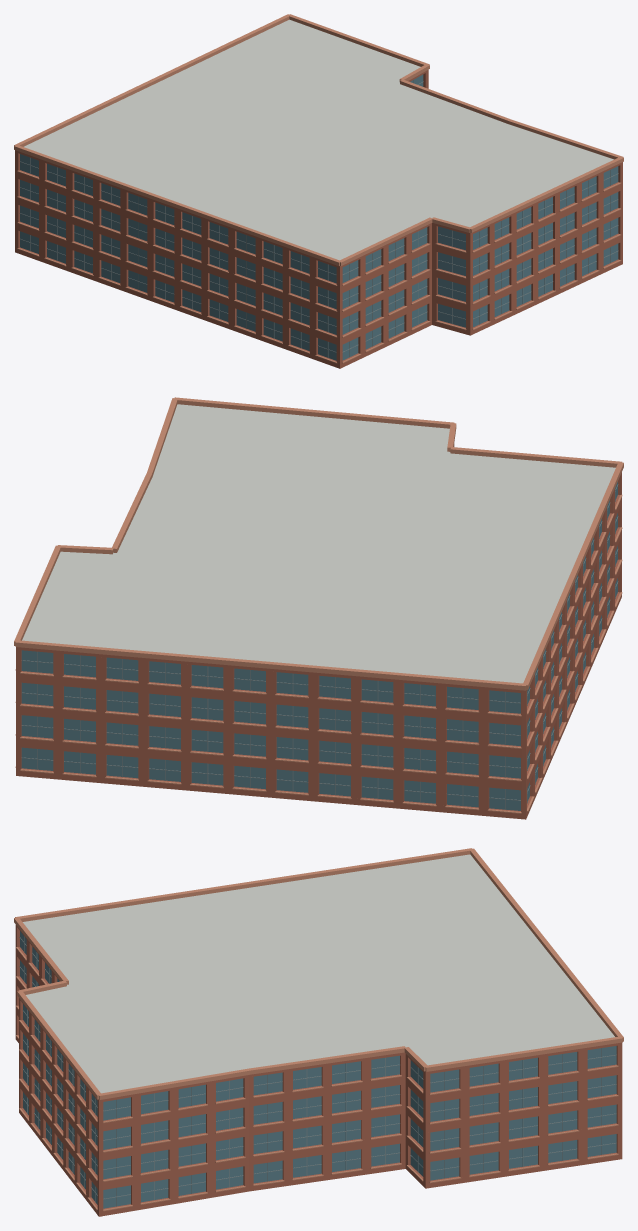
3 views of the same model, one above another, from view 1: azimuth 30°, elevation 25°; view 2: azimuth 150°, elevation 25°; view 3: azimuth 270°, elevation 25° (orthographic). The views are drawn at different scales.
Visible parts, largest first — view 1: roof, wall, glass, trim, metal; view 2: roof, wall, glass, trim, metal; view 3: roof, wall, glass, trim, metal.
Boxes of the visible parts, bbox=[...] form: roof: bbox=[24, 19, 613, 260]; wall: bbox=[15, 69, 622, 368]; glass: bbox=[20, 74, 618, 360]; trim: bbox=[14, 14, 623, 363]; metal: bbox=[19, 80, 618, 357]; roof: bbox=[22, 404, 615, 683]; wall: bbox=[16, 444, 621, 819]; glass: bbox=[21, 482, 617, 810]; trim: bbox=[14, 397, 623, 813]; metal: bbox=[21, 484, 618, 809]; roof: bbox=[23, 854, 614, 1093]; wall: bbox=[15, 925, 622, 1216]; glass: bbox=[20, 931, 616, 1208]; trim: bbox=[14, 848, 623, 1211]; metal: bbox=[19, 936, 616, 1206].
Bounding box in the file's own units: 57.05 × 13.04 × 59.32.
